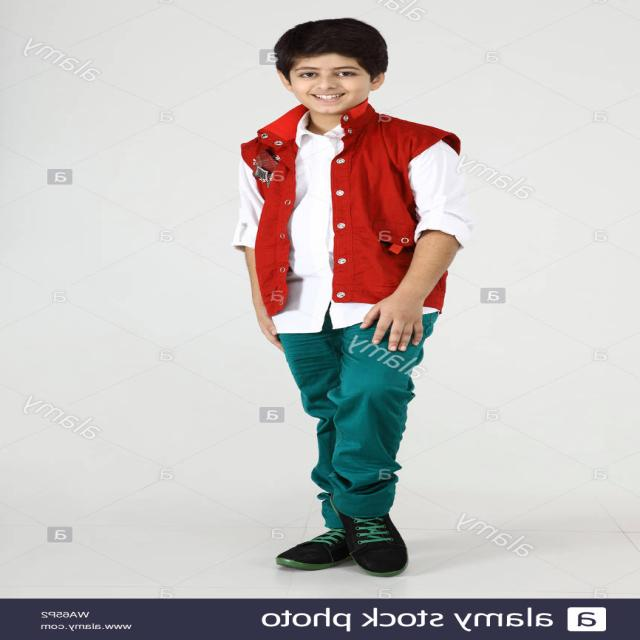child: (216, 20, 474, 586)
